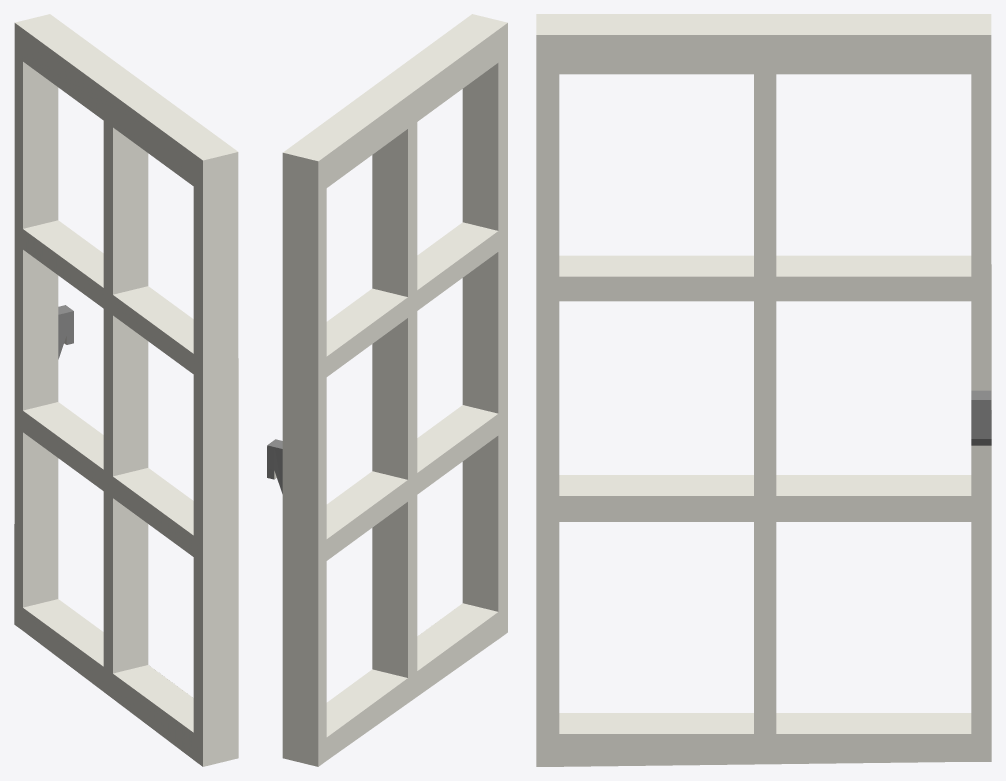
The model's file is Window_Door_1.fbx.
The picture shows the model from 3 angles, left to right: view 1: azimuth 30°, elevation 25°; view 2: azimuth 150°, elevation 25°; view 3: azimuth 270°, elevation 25°; orthographic projection. The views are drawn at different scales.
Parts seen in each view (by area): view 1: pCube4; view 2: pCube4; view 3: pCube4.
Boxes of the visible parts, x1,y1,x2,y2 form: pCube4: (14, 14, 238, 766); pCube4: (267, 14, 507, 766); pCube4: (536, 14, 991, 766).
Size of the model in its own units: 1.44 by 16.34 by 9.21.
